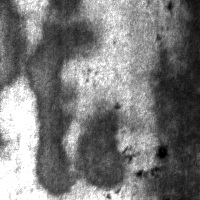patches: (27, 1, 87, 196), (150, 1, 200, 200), (78, 103, 127, 188), (1, 1, 27, 91)
